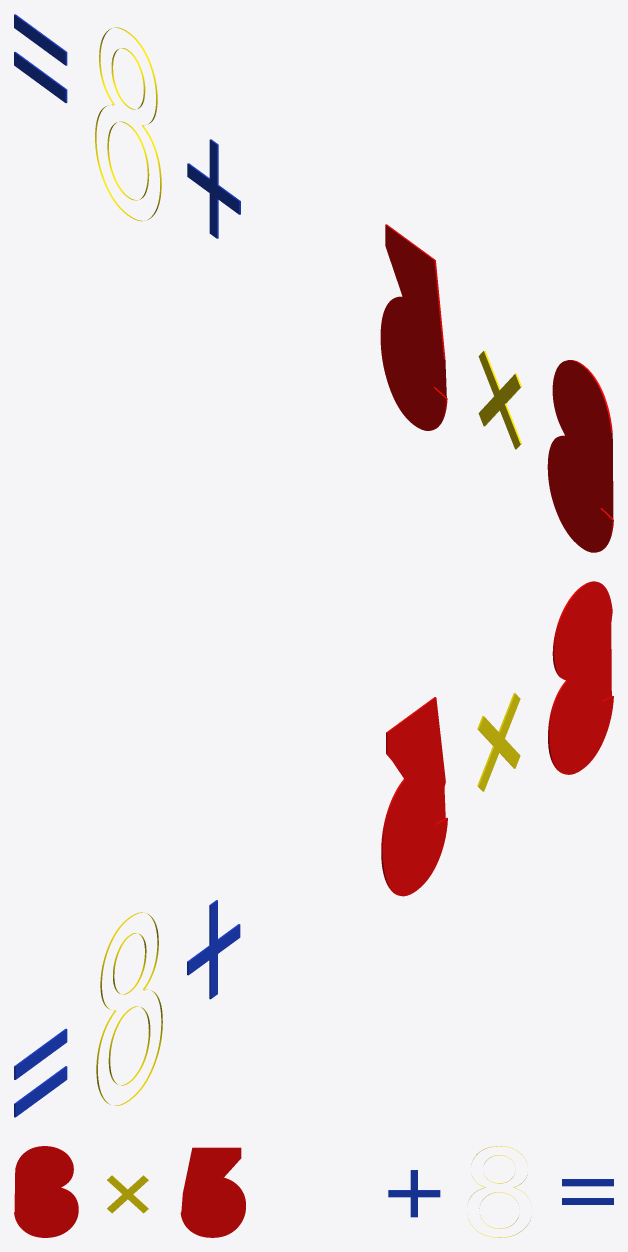
File: tnk-11.dae
The picture shows the model from 3 angles, top to bottom: view 1: azimuth 30°, elevation 25°; view 2: azimuth 150°, elevation 25°; view 3: azimuth 270°, elevation 25°; orthographic projection. The views are drawn at different scales.
Parts seen in each view (by area): view 1: tnk11, RAVNO.1, x; view 2: tnk11, RAVNO.1, x; view 3: tnk11, RAVNO.1, x.
Part boxes in pixels (bbox=[...]): tnk11: bbox=[95, 27, 613, 552]; RAVNO.1: bbox=[14, 14, 67, 103]; x: bbox=[478, 350, 521, 449]; tnk11: bbox=[96, 581, 613, 1105]; RAVNO.1: bbox=[14, 1028, 67, 1117]; x: bbox=[477, 693, 520, 791]; tnk11: bbox=[14, 1146, 530, 1237]; RAVNO.1: bbox=[562, 1179, 613, 1204]; x: bbox=[107, 1175, 148, 1213].
Size of the model in its own units: 1.5 by 109 by 649.
